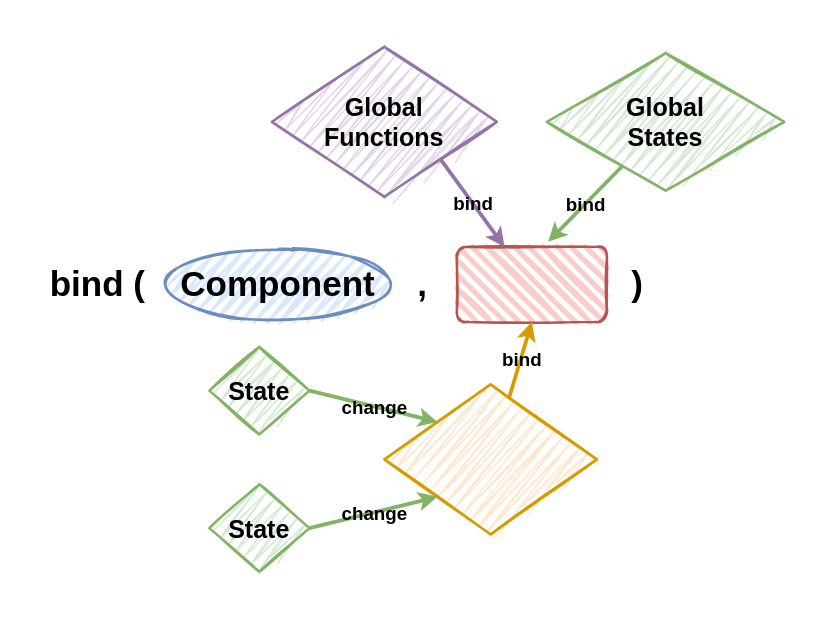
Some shapes in this 830 by 618 pixel diagram are drawn without their labels. Each missing label, with the box of its shape:
Array: (455, 245, 608, 322)
Computed Values: (382, 382, 598, 535)
